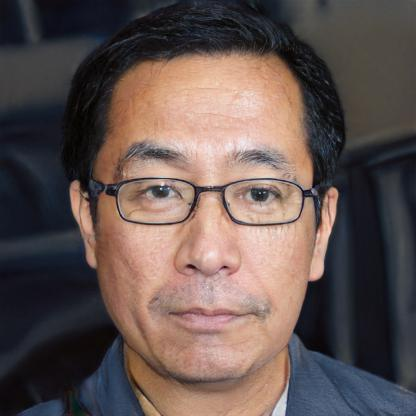glasses: (102, 170, 312, 231)
